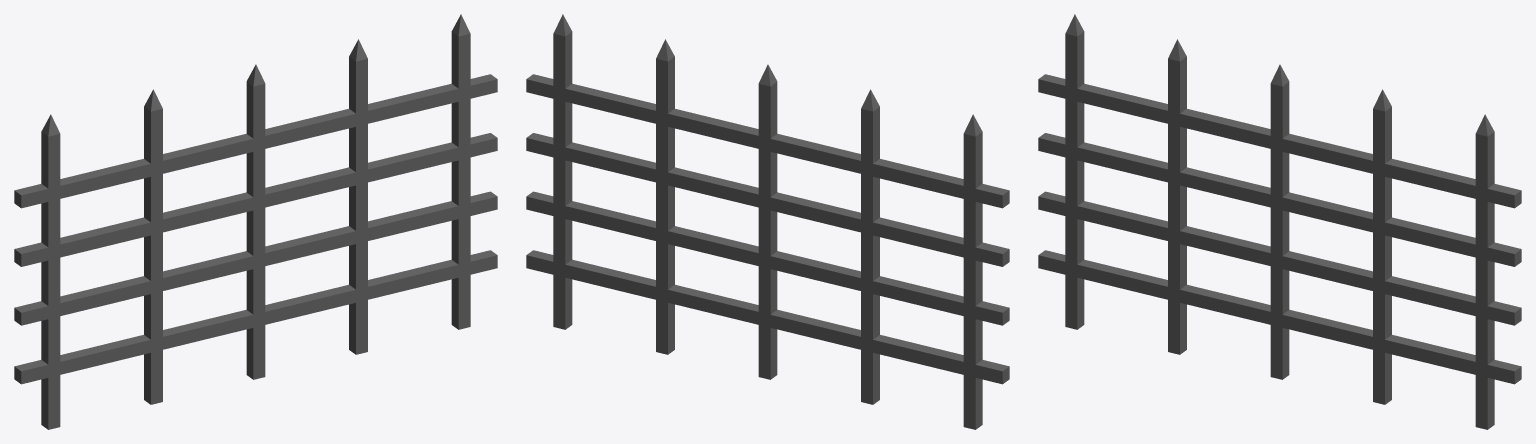
The model's file is SM_Grade.fbx.
3 views of the same model, side by side, from view 1: azimuth 30°, elevation 25°; view 2: azimuth 150°, elevation 25°; view 3: azimuth 330°, elevation 25° (orthographic).
Visible parts, largest first — view 1: SM_Grade; view 2: SM_Grade; view 3: SM_Grade.
Part boxes in pixels (x1,y1,x2,y2): SM_Grade: (14, 14, 497, 429); SM_Grade: (526, 14, 1009, 429); SM_Grade: (1038, 14, 1521, 429).
Bounding box in the file's own units: 464 × 291 × 11.73.
